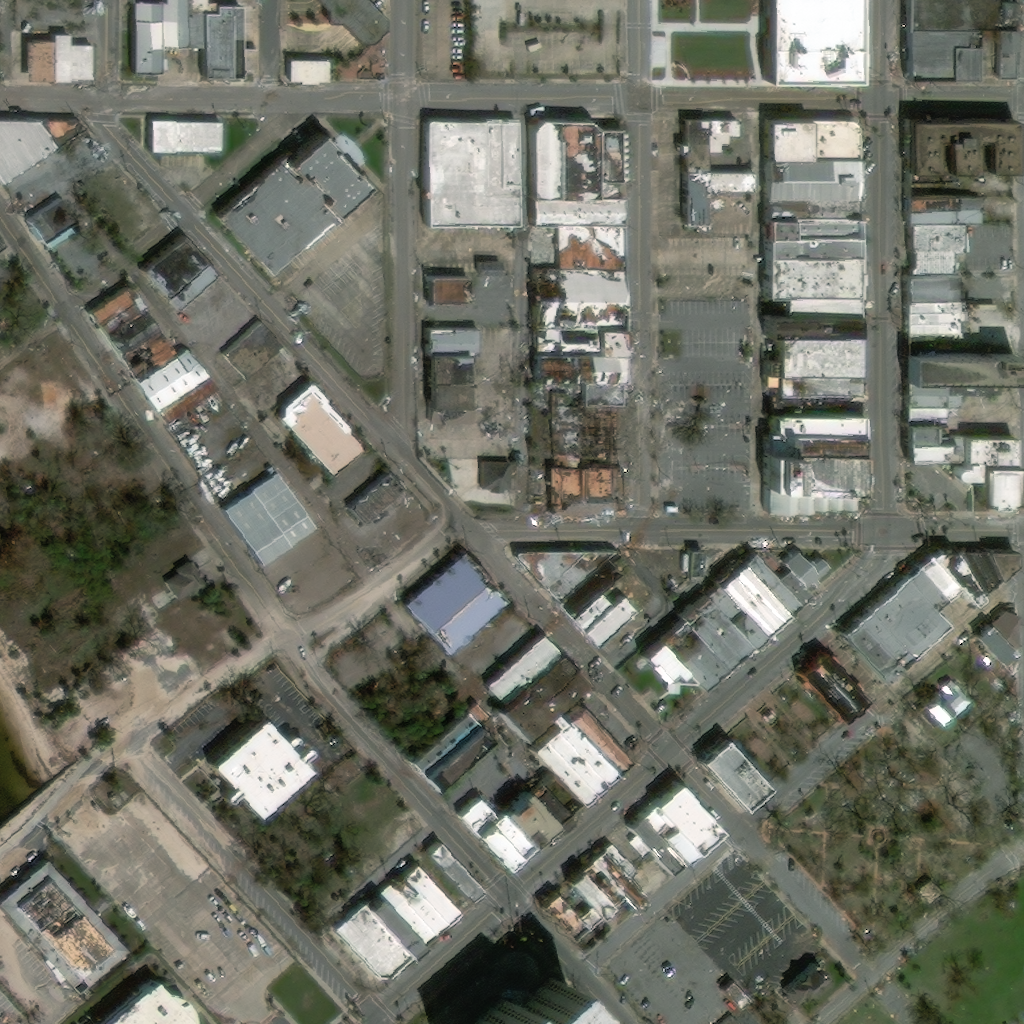destroyed: (522, 114, 626, 516), (87, 284, 218, 428)
major_damage: (0, 854, 126, 990), (537, 842, 649, 943), (755, 412, 863, 513), (758, 215, 858, 317), (673, 118, 751, 226), (790, 650, 869, 727), (767, 333, 857, 396), (779, 964, 832, 1013)
minor_damage: (634, 550, 830, 695), (482, 629, 626, 805), (215, 128, 369, 277), (508, 548, 638, 650), (900, 194, 985, 334), (400, 553, 507, 657), (622, 779, 722, 878), (758, 117, 858, 215), (274, 380, 364, 477), (455, 787, 554, 874), (406, 702, 497, 794), (896, 355, 1016, 422), (758, 0, 846, 78), (138, 234, 219, 313), (422, 327, 479, 427), (0, 120, 89, 184), (222, 322, 282, 382), (343, 470, 404, 528), (964, 608, 1018, 668), (915, 675, 972, 729), (26, 197, 77, 252), (718, 980, 751, 1015), (480, 462, 513, 493), (433, 279, 472, 304)
no_damage: (834, 547, 1017, 685), (330, 863, 461, 981), (418, 116, 520, 229), (200, 717, 309, 820), (122, 0, 244, 79), (217, 471, 314, 567), (903, 0, 1015, 81), (898, 118, 1008, 181), (442, 977, 572, 1023), (694, 738, 764, 812), (271, 960, 349, 1023), (86, 977, 189, 1023), (899, 425, 1017, 462), (16, 33, 96, 85), (423, 841, 484, 906), (312, 0, 386, 47), (947, 461, 1009, 508), (147, 120, 220, 154), (167, 561, 204, 603), (285, 58, 328, 84), (481, 262, 506, 278)
